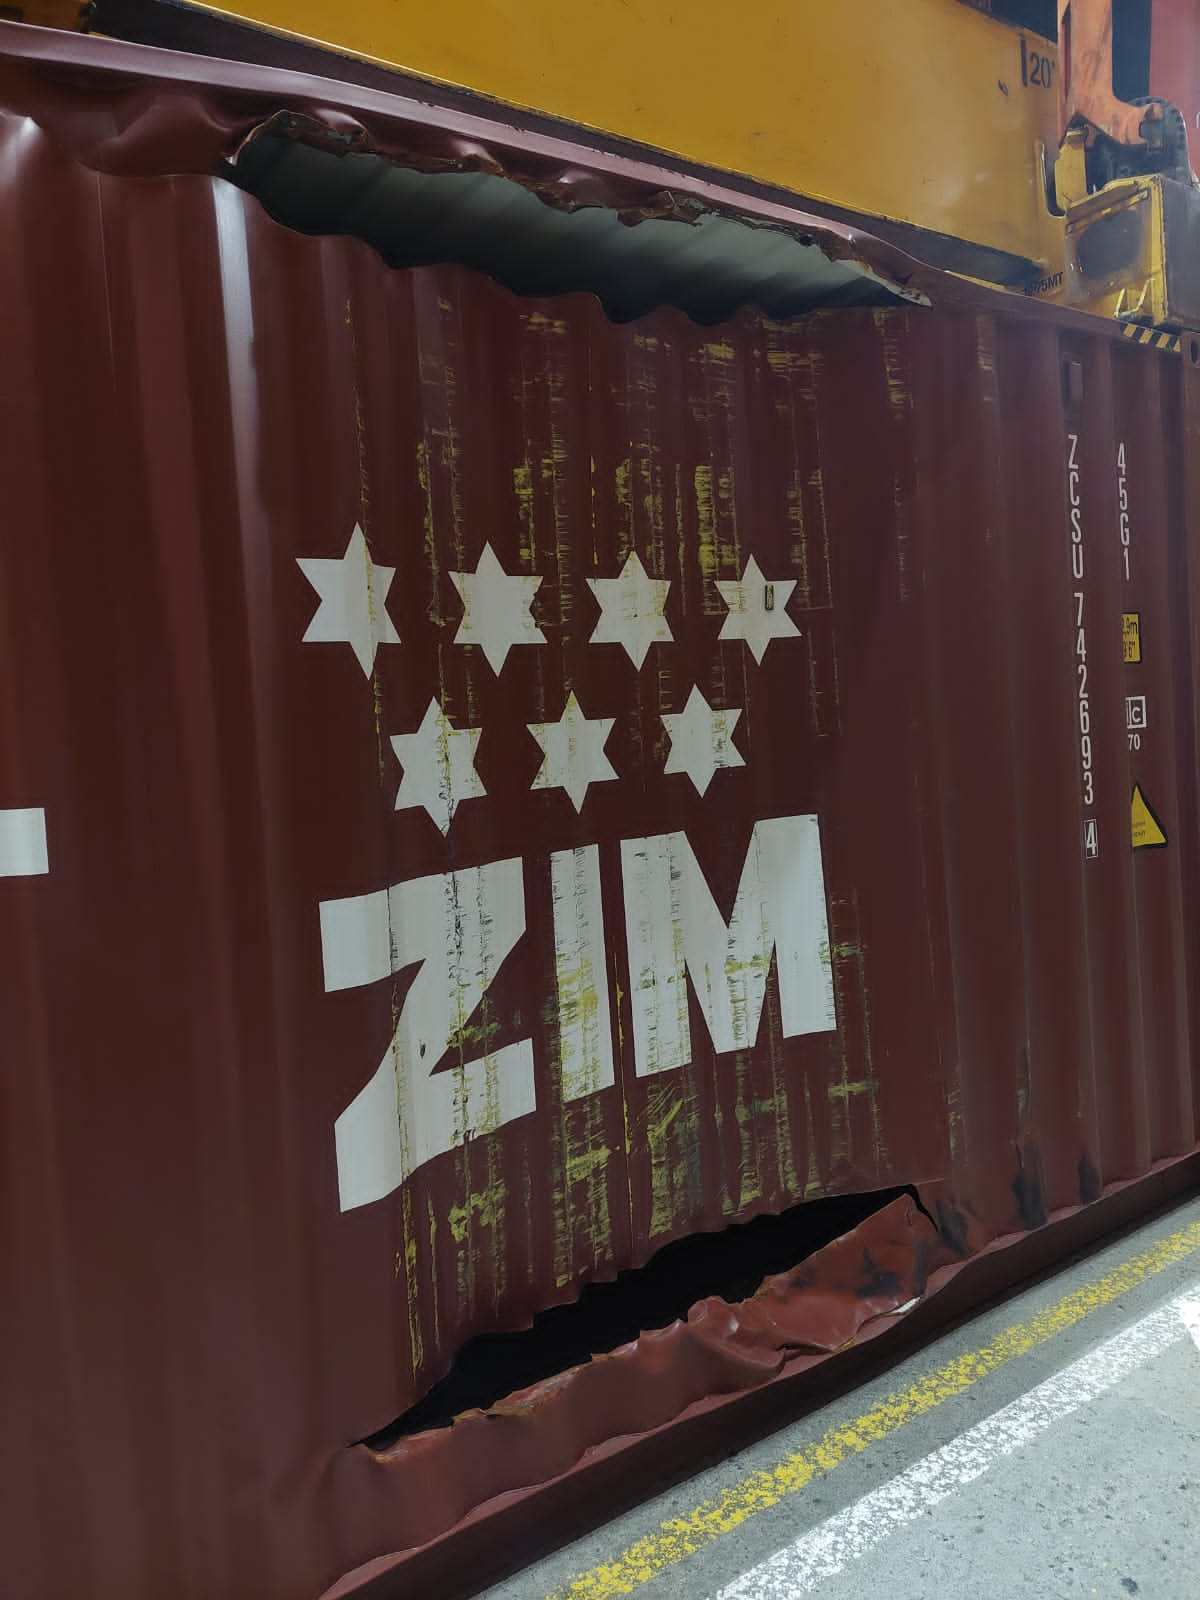cut: (21, 86, 940, 380), (301, 1133, 983, 1454)
